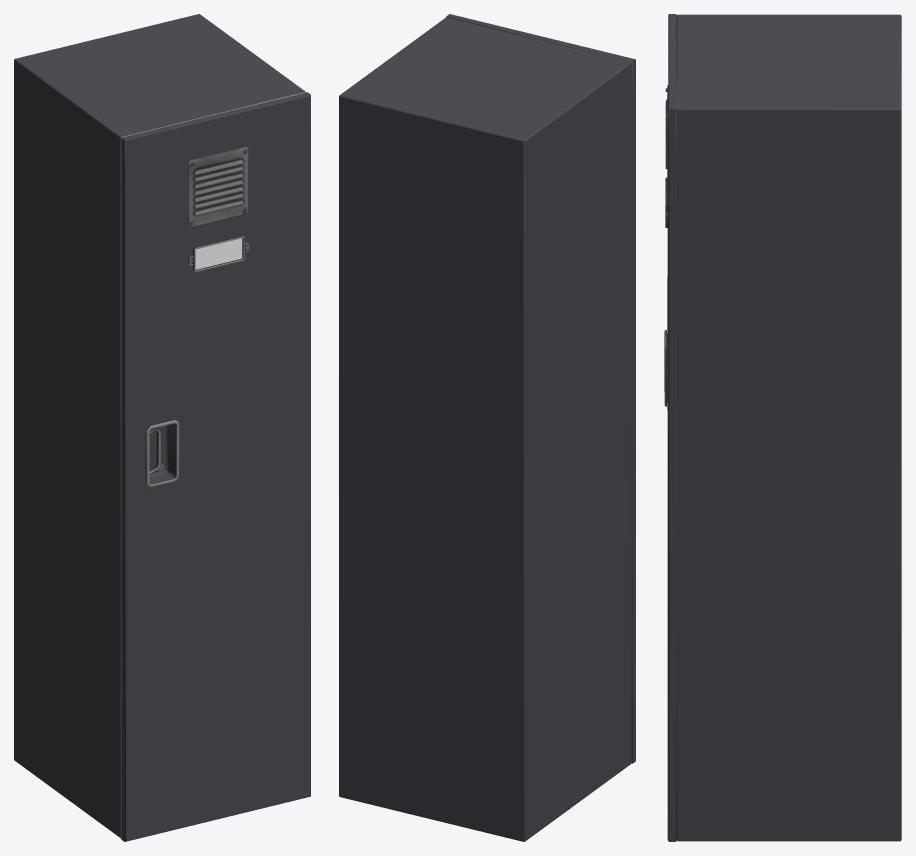
File: locker_closed.glb
3 renders of one model, left to right at view 1: azimuth 30°, elevation 25°; view 2: azimuth 150°, elevation 25°; view 3: azimuth 270°, elevation 25°, orthographic. The views are drawn at different scales.
Parts seen in each view (by area): view 1: 02_2__0, 02__0; view 2: 02__0, 02_2__0; view 3: 02__0, 02_2__0.
Boxes of the visible parts, x1,y1,x2,y2 form: 02_2__0: (121,92,310,841); 02__0: (14,14,306,838); 02__0: (339,17,631,841); 02_2__0: (446,14,635,763); 02__0: (677,14,901,841); 02_2__0: (664,14,676,841).
Bounding box in the file's own units: 0.5 × 1.8 × 0.5276.
Materials: 1 (1 with a texture image).
